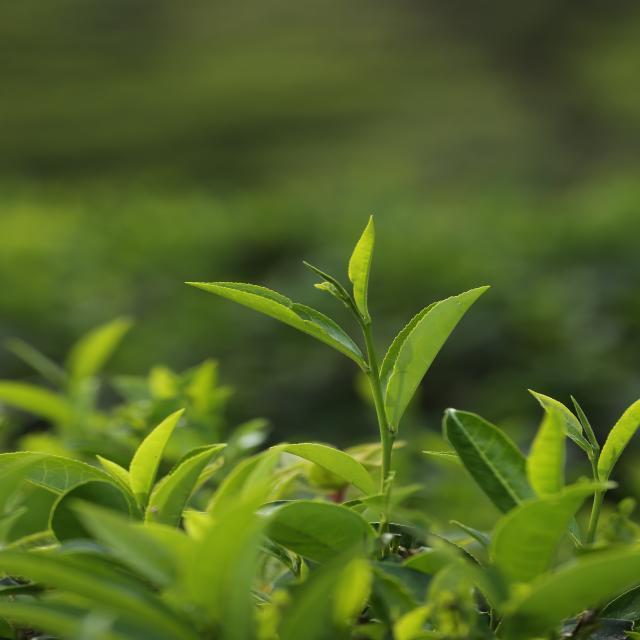Stem: (367, 366, 383, 398), (594, 492, 605, 507)
